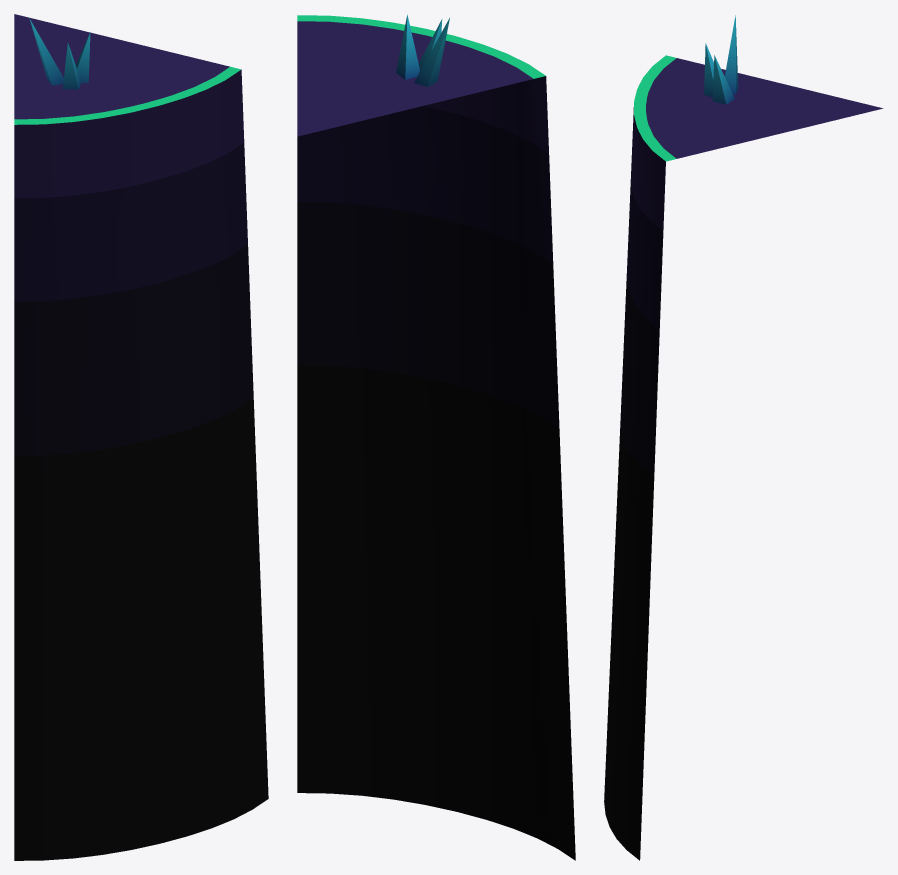
The model's file is MODULE_ALIEN_RIM_1_CRYSTALS.fbx.
The picture shows the model from 3 angles, left to right: view 1: azimuth 30°, elevation 25°; view 2: azimuth 150°, elevation 25°; view 3: azimuth 270°, elevation 25°; orthographic projection. The views are drawn at different scales.
Visible parts, largest first — view 1: MODULE_ALIEN_RIM_1_CRYSTALS__export, MODULE_ALIEN_RIM_1_CRYSTALS_DECOR__export; view 2: MODULE_ALIEN_RIM_1_CRYSTALS__export, MODULE_ALIEN_RIM_1_CRYSTALS_DECOR__export; view 3: MODULE_ALIEN_RIM_1_CRYSTALS__export, MODULE_ALIEN_RIM_1_CRYSTALS_DECOR__export.
Boxes of the visible parts, x1,y1,x2,y2 form: MODULE_ALIEN_RIM_1_CRYSTALS__export: (14, 14, 268, 860); MODULE_ALIEN_RIM_1_CRYSTALS_DECOR__export: (29, 18, 90, 89); MODULE_ALIEN_RIM_1_CRYSTALS__export: (297, 15, 575, 860); MODULE_ALIEN_RIM_1_CRYSTALS_DECOR__export: (396, 14, 449, 87); MODULE_ALIEN_RIM_1_CRYSTALS__export: (604, 55, 883, 860); MODULE_ALIEN_RIM_1_CRYSTALS_DECOR__export: (704, 15, 738, 104).
Bounding box in the file's own units: 53.82 × 160 × 53.48.
